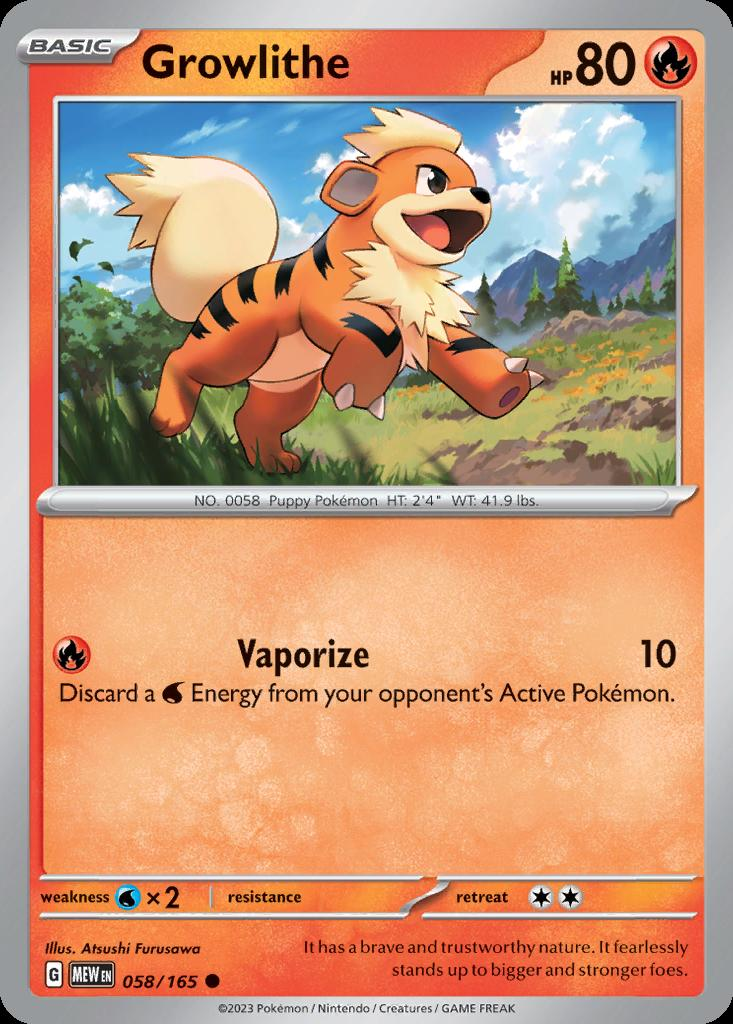card: (13, 3, 733, 1024)
hp: (537, 31, 699, 87)
name: (136, 30, 374, 84)
set num: (120, 961, 234, 994)
set symbol: (39, 959, 117, 1000)
